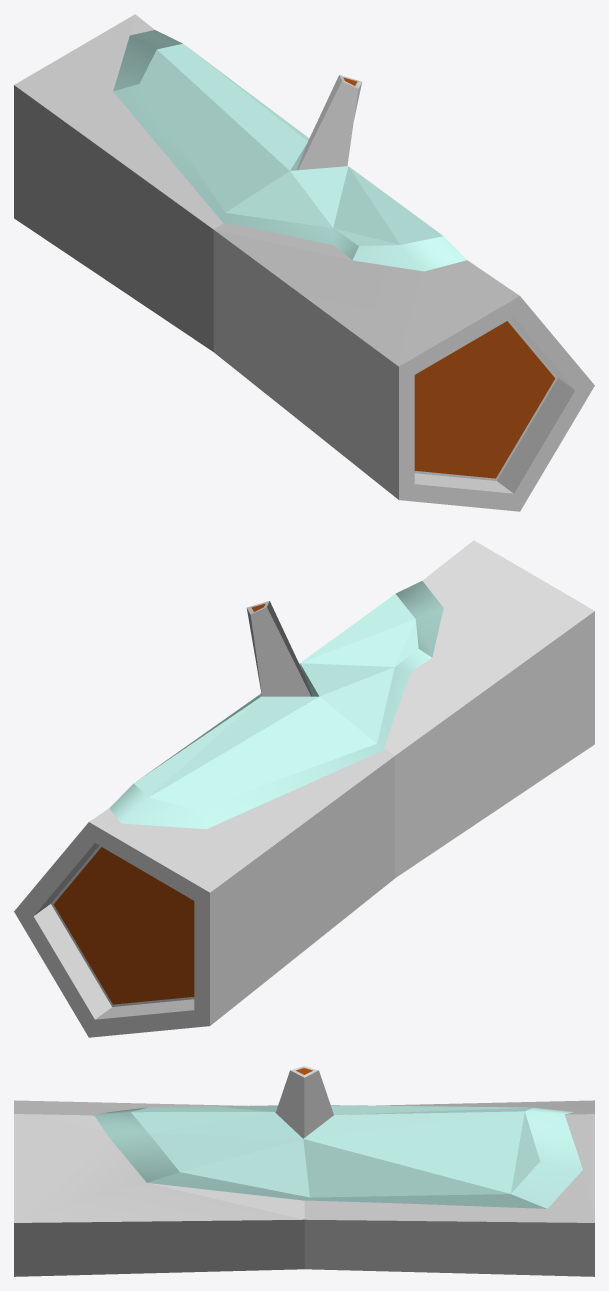
Rendered from Trunk2.FBX.
The picture shows the model from 3 angles, top to bottom: view 1: azimuth 30°, elevation 25°; view 2: azimuth 150°, elevation 25°; view 3: azimuth 270°, elevation 25°; orthographic projection. The views are drawn at different scales.
Parts seen in each view (by area): view 1: Tunk2_a, Trunk2_c, Trunk2_b; view 2: Tunk2_a, Trunk2_c, Trunk2_b; view 3: Tunk2_a, Trunk2_c.
Boxes of the visible parts, x1,y1,x2,y2 form: Tunk2_a: (14, 14, 594, 511); Trunk2_c: (113, 30, 466, 271); Trunk2_b: (343, 77, 555, 478); Tunk2_a: (14, 540, 594, 1037); Trunk2_c: (109, 581, 443, 829); Trunk2_b: (53, 603, 265, 1004); Tunk2_a: (14, 1066, 594, 1276); Trunk2_c: (93, 1105, 582, 1208).
Bounding box in the file's own units: 1584 × 2209 × 5384.
